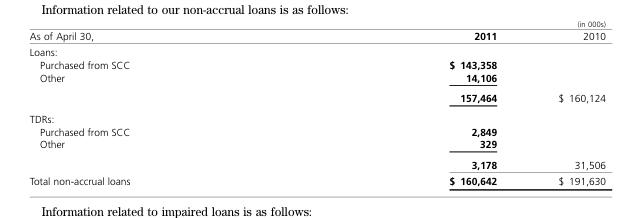table: (28, 29, 605, 186)
table column: (28, 29, 289, 186), (289, 29, 526, 186), (526, 29, 605, 186)
table column header: (28, 29, 605, 43)
table projected row header: (28, 108, 605, 124), (28, 43, 605, 58)
table row: (28, 87, 605, 108), (28, 153, 605, 172), (28, 70, 605, 87), (28, 108, 605, 124), (28, 137, 605, 153), (28, 43, 605, 58), (28, 29, 605, 43), (28, 172, 605, 186), (28, 124, 605, 137), (28, 58, 605, 70)
